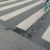zebra: (1, 1, 50, 42)
